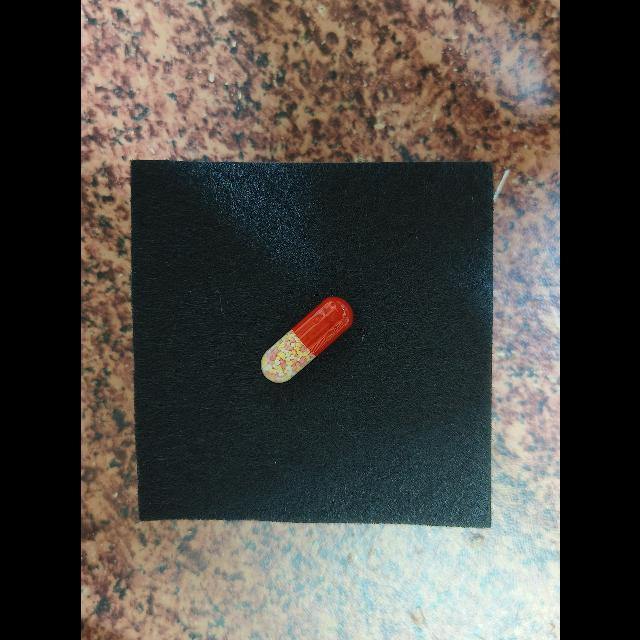Intact Capsule: (260, 296, 353, 383)
